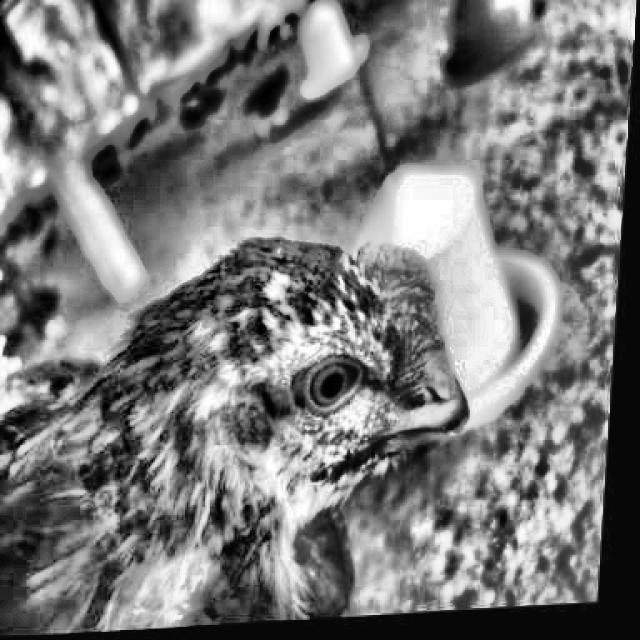Healthy: (287, 327, 378, 425)
